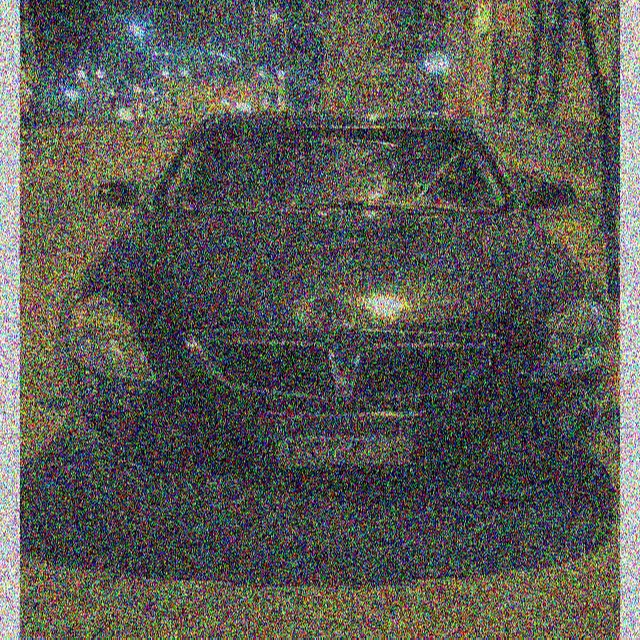License Plate: (274, 415, 416, 471)
